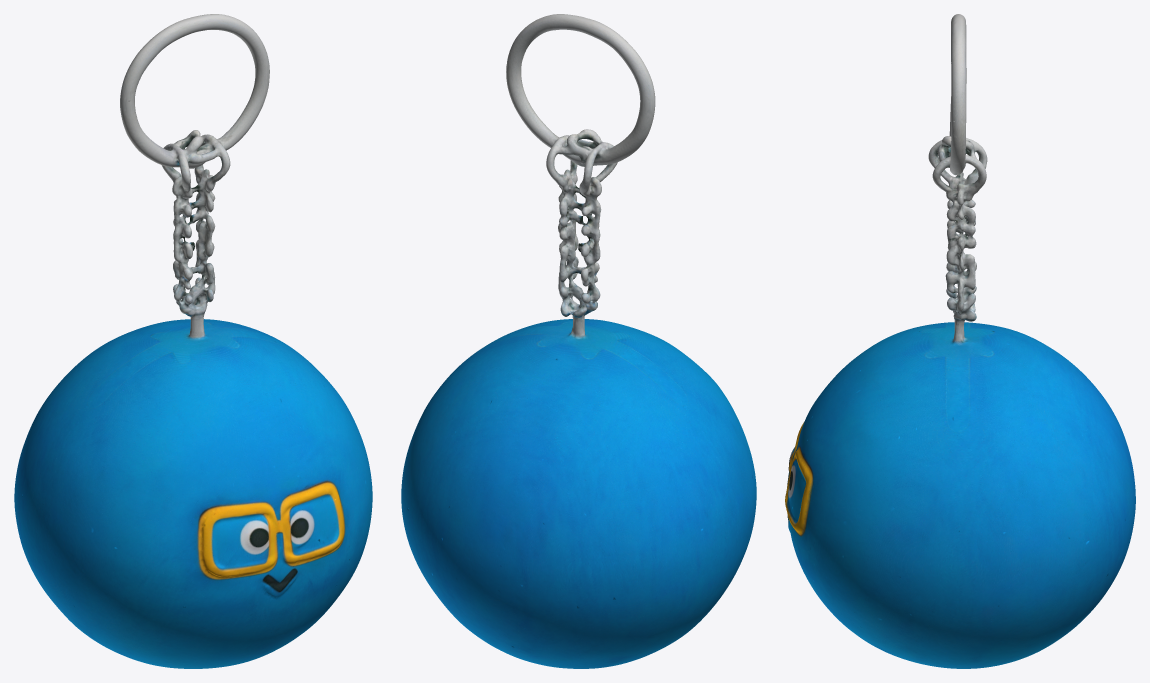
Rendered from hanging-ball-blue.glb.
3 renders of one model, left to right at view 1: azimuth 30°, elevation 25°; view 2: azimuth 150°, elevation 25°; view 3: azimuth 270°, elevation 25°, orthographic.
Bounding box in the file's own units: 1.01 × 2 × 1.01.
Materials: 1 (1 with a texture image).
